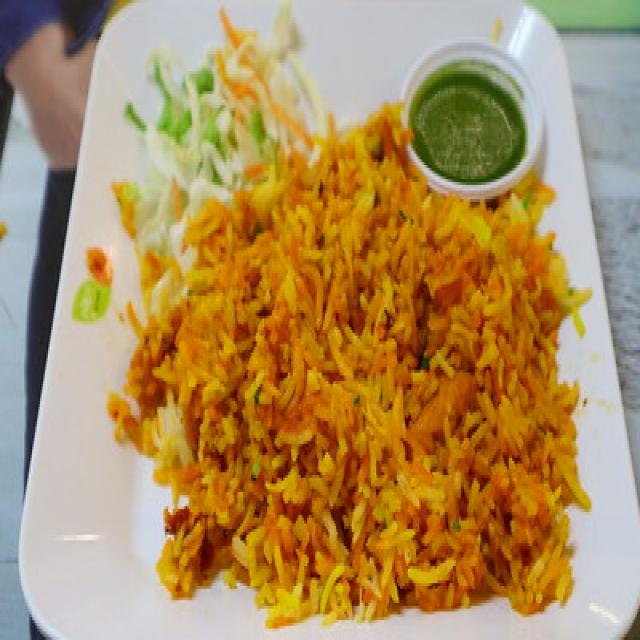Biryani: (154, 154, 552, 608)
